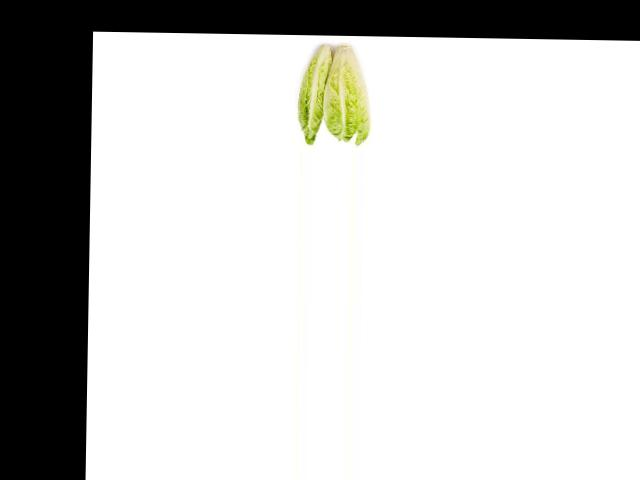lettuce: (287, 37, 334, 146)
